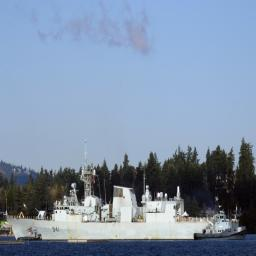Fragata: (5, 135, 233, 244)
